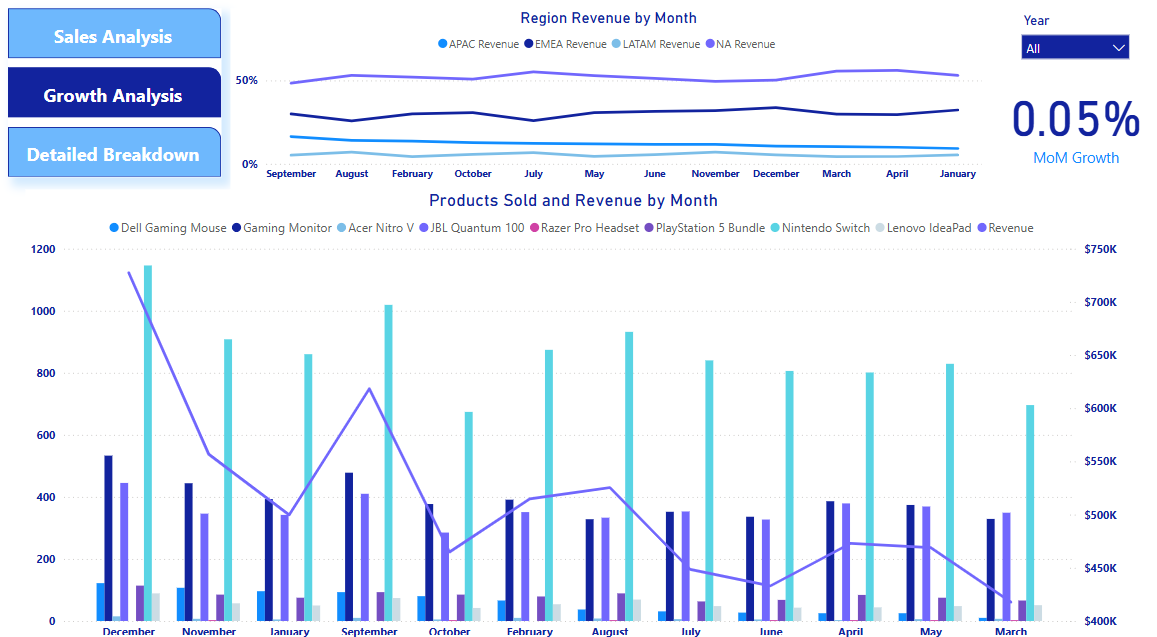

What the dashboard file says about the page in this screenshot:
{"tool":"powerbi","page":{"name":"Growth Analysis","canvas":[1280,720],"ordinal":1},"visuals":[{"type":"pageNavigator","box":[11,17.8,234.6,185.2],"z":0},{"type":"lineClusteredColumnComboChart","title":"Products Sold and Revenue by Month","fields":{"Category":["Date.Month"],"Y":["Key Measures.CountGMouse","Key Measures.CountMonitor","Key Measures.CountNitroV","Key Measures.CountJBL","Key Measures.CountRazer","Key Measures.CountPS5","Key Measures.CountNSwitch","Key Measures.CountIdeaPad"],"Y2":["Key Measures.Total Revenue"]},"box":[30.2,216.8,1203.4,503.6],"z":1000},{"type":"lineChart","title":"Region Revenue by Month","fields":{"Y":["Key Measures.APACProfit","Key Measures.EMEAProfit","Key Measures.LATAMProfit","Key Measures.NAProfit"],"Category":["Date.Month"]},"box":[255.2,17.8,830.2,199],"z":2000},{"type":"slicer","fields":{"Values":["orders_cleaned.Year"]},"box":[1112.9,17.8,140,74.1],"z":4000},{"type":"card","fields":{"Values":["Key Measures.MoM Growth"]},"box":[1095,91.9,174.3,102.9],"z":4001}]}

Visuals, with their boxes in screenshot pixels (x1, y1, x2, y2), scaled from the page's 1280x720 canvas onto the 1157x637 screenshot:
pageNavigator: 10/16/222/180
"Products Sold and Revenue by Month" lineClusteredColumnComboChart: 27/192/1115/636
"Region Revenue by Month" lineChart: 231/16/981/192
slicer - orders_cleaned.Year: 1006/16/1133/81
card - Key Measures.MoM Growth: 990/81/1147/172
